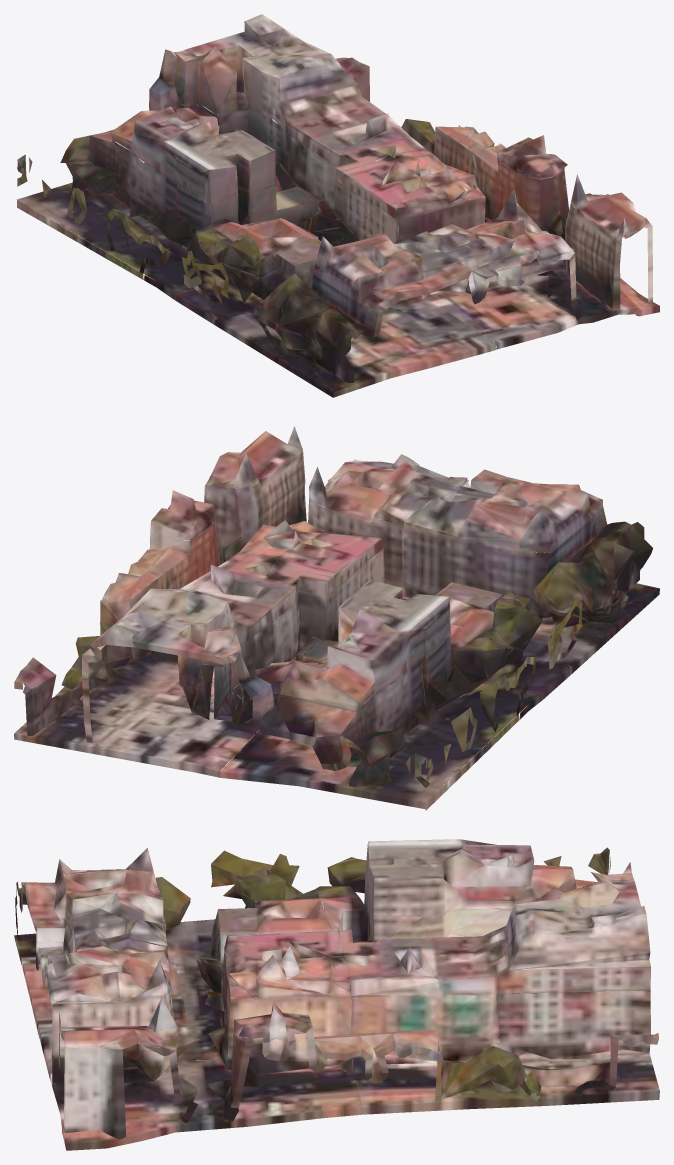
3 views of the same model, one above another, from view 1: azimuth 30°, elevation 25°; view 2: azimuth 150°, elevation 25°; view 3: azimuth 270°, elevation 25° (orthographic). The views are drawn at different scales.
Visible parts, largest first — view 1: Mesh_0; view 2: Mesh_0; view 3: Mesh_0.
Part boxes in pixels (box(x1,y1,x2,y2)): Mesh_0: box(17, 14, 659, 397); Mesh_0: box(14, 426, 659, 810); Mesh_0: box(14, 839, 659, 1150).
Bounding box in the file's own units: 134 × 45.26 × 165.
1 material, 1 textured.
